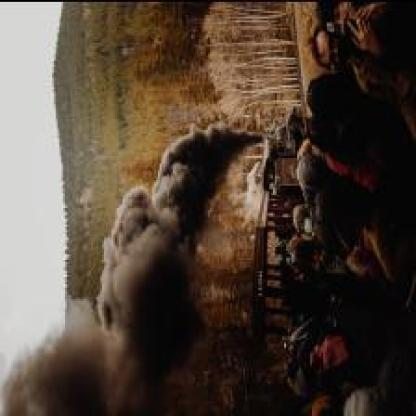Smoke: (8, 121, 254, 401)
